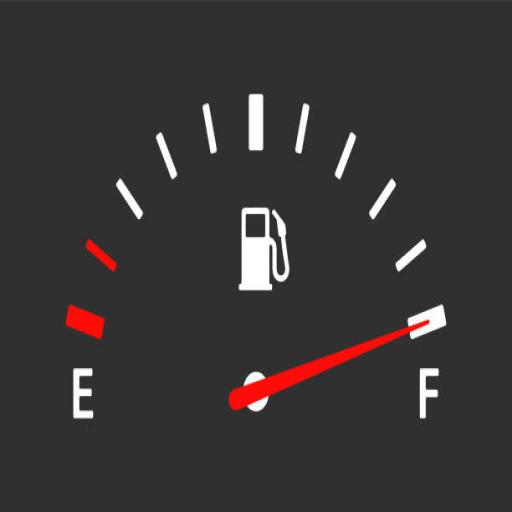empty: (70, 362, 94, 422)
fuel_icon: (236, 201, 290, 295)
full: (416, 361, 440, 424)
guage_area: (64, 89, 448, 430)
needle_center: (236, 365, 276, 418)
needle_tip: (400, 316, 432, 336)
